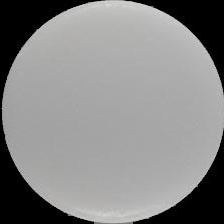69189-4485: (0, 0, 224, 224)
